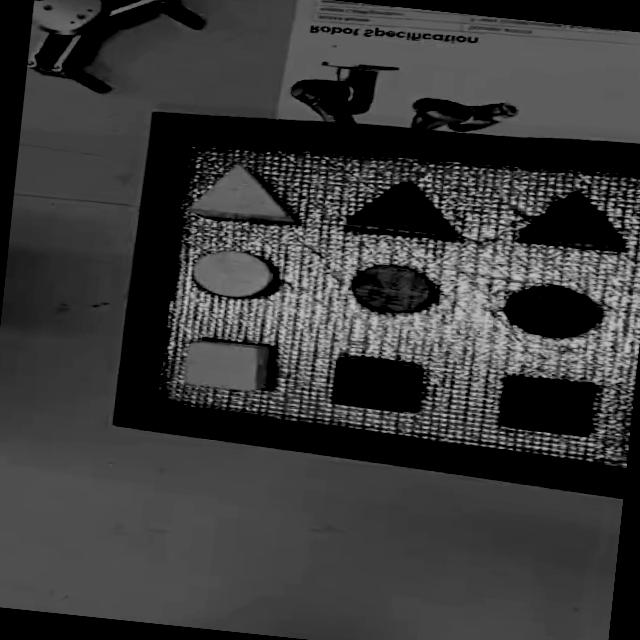bcircle: (491, 278, 609, 346)
bcube: (497, 373, 595, 438)
btriangle: (512, 184, 634, 254)
rcircle: (352, 264, 437, 313)
rcube: (327, 354, 420, 414)
rtriangle: (346, 182, 451, 237)
wb: (152, 140, 640, 472)
ycircle: (184, 245, 284, 306)
ycube: (178, 336, 274, 394)
ytriangle: (187, 160, 301, 228)
